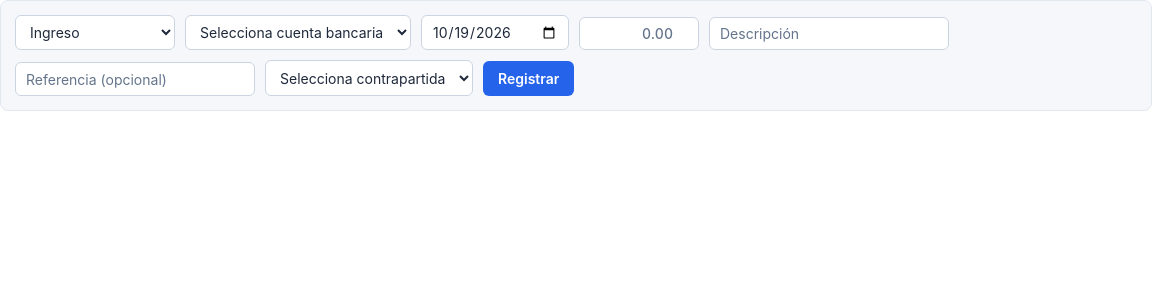
Scenario: FormularioMovimiento › cuentas en dólares › muestra el error del servidor al transferir
Select "Transferencia" in the dropdown named "Operación": (95, 33) [15,15,175,50]
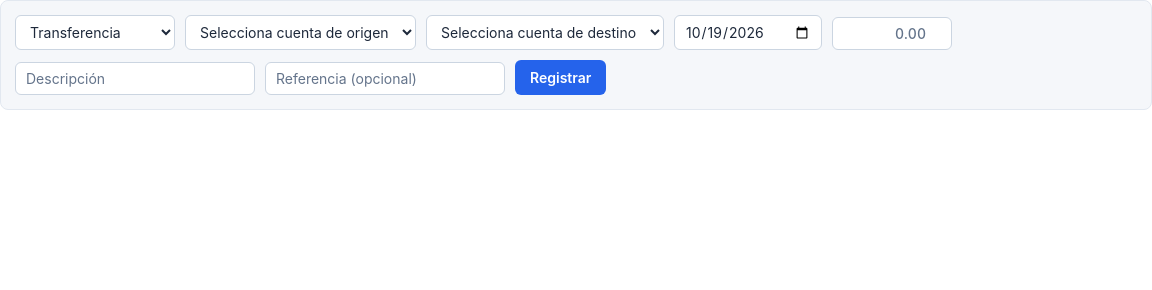
Select "BAC 123" in the dropdown named "Cuenta de origen": (300, 33) [185,15,416,50]
Select "BAC USD-1 (USD)" in the dropdown named "Cuenta de destino": (545, 33) [426,15,664,50]
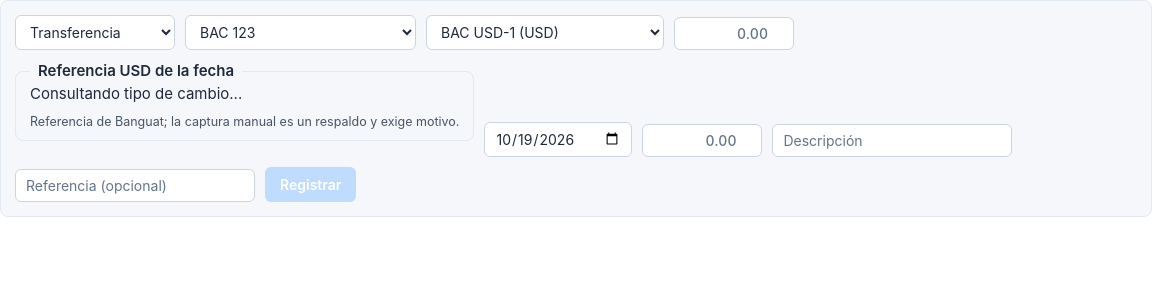
In the date field named "Fecha del movimiento": (558, 140) [484,122,632,157], type "2025-03-01"
In the number field named "Monto del movimiento": (702, 140) [642,124,762,157], type "7700"
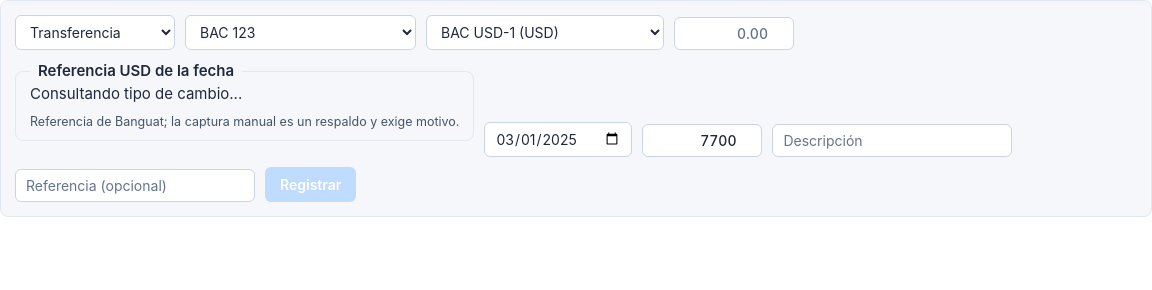
In the field named "Descripción del movimiento": (892, 140) [772,124,1012,157], type " Comisión "
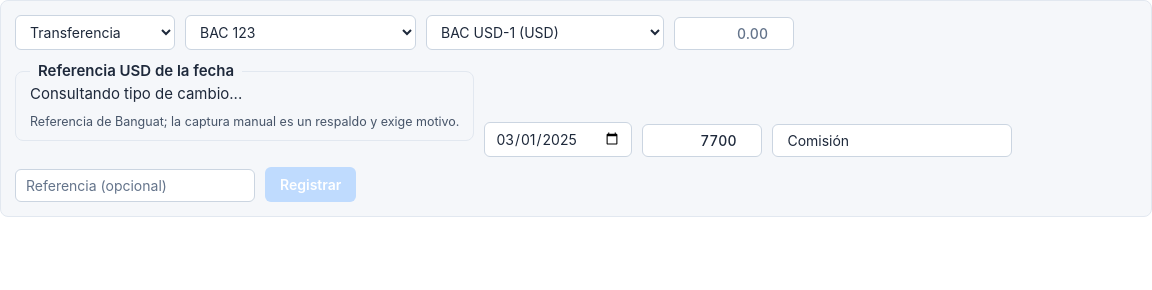
In the number field named "Monto destino en USD": (734, 34) [674,17,794,50], type "1000"
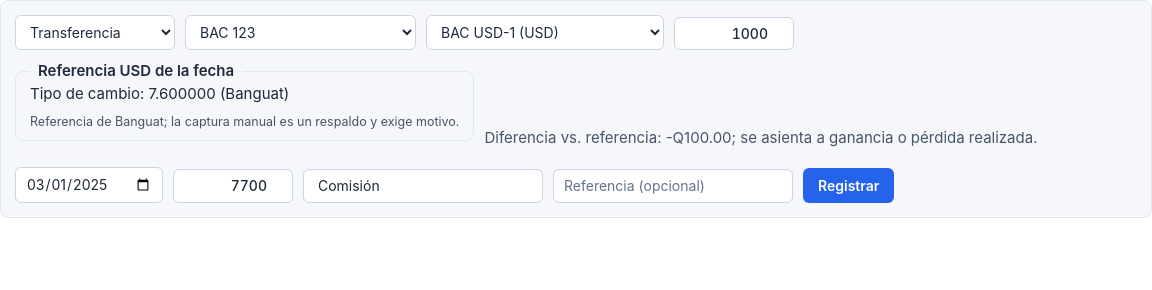
Expected: the text "Diferencia vs. referencia" is shown, [484,128,1038,147]
Click the button "Registrar": (849, 185) [803,168,894,202]
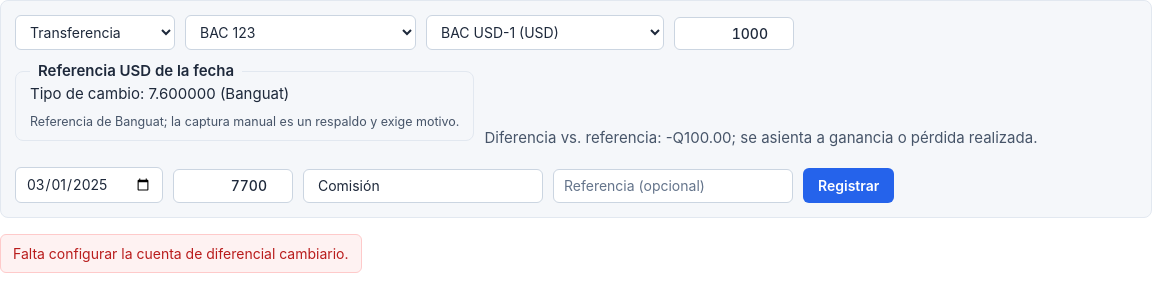
Expected: the text "Falta configurar la cuenta de diferencial cambiario." is shown, [0,234,362,272]
